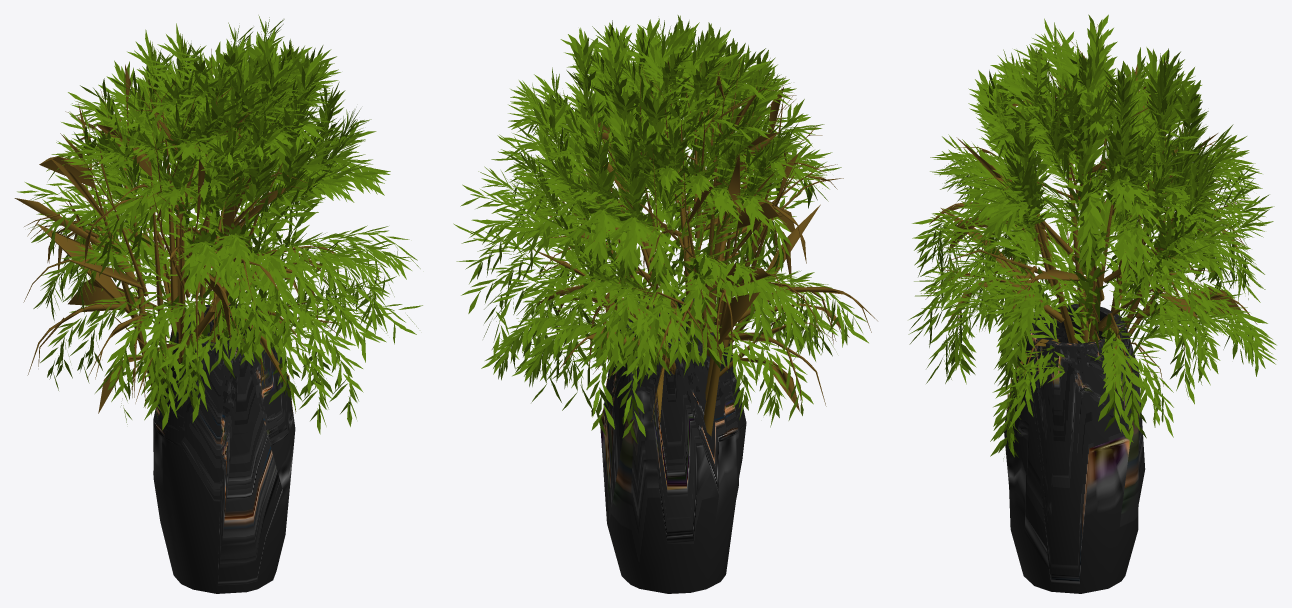
Rendered from grande-vase-plante.glb.
The picture shows the model from 3 angles, left to right: view 1: azimuth 30°, elevation 25°; view 2: azimuth 150°, elevation 25°; view 3: azimuth 270°, elevation 25°; orthographic projection. The views are drawn at different scales.
Visible parts, largest first — view 1: leaves, Vase.001, tree; view 2: leaves, Vase.001, tree; view 3: leaves, Vase.001, tree.
Part boxes in pixels (x1=…): leaves: x1=17, y1=15, x2=422, y2=434; Vase.001: x1=153, y1=304, x2=295, y2=593; tree: x1=14, y1=49, x2=342, y2=413; leaves: x1=453, y1=15, x2=868, y2=443; Vase.001: x1=600, y1=297, x2=746, y2=593; tree: x1=533, y1=54, x2=877, y2=436; leaves: x1=908, y1=14, x2=1276, y2=458; Vase.001: x1=1004, y1=304, x2=1145, y2=593; tree: x1=925, y1=24, x2=1257, y2=411.
Bounding box in the file's own units: 11.64 × 17.13 × 10.85.
Materials: 3 (1 with a texture image).
